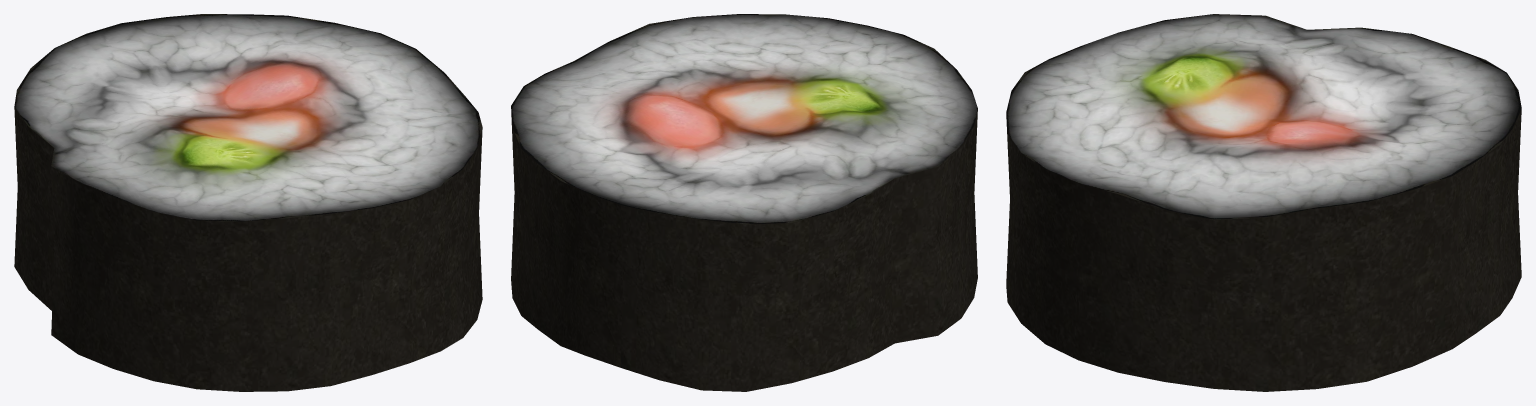
Rendered from sushi_roll_04.glb.
The picture shows the model from 3 angles, left to right: view 1: azimuth 30°, elevation 25°; view 2: azimuth 150°, elevation 25°; view 3: azimuth 270°, elevation 25°; orthographic projection. The views are drawn at different scales.
Parts seen in each view (by area): view 1: Sushi_2; view 2: Sushi_2; view 3: Sushi_2.
Part boxes in pixels (box(x1,y1,x2,y2)): Sushi_2: box(14, 14, 482, 391); Sushi_2: box(511, 14, 977, 391); Sushi_2: box(1006, 14, 1521, 391).
Bounding box in the file's own units: 0.0709 × 0.0328 × 0.0778.
Materials: 1 (1 with a texture image).
